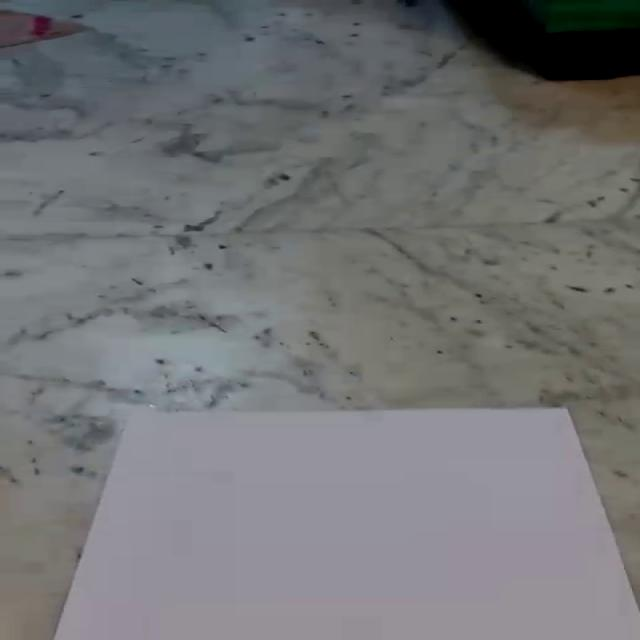road: (52, 408, 640, 640)
